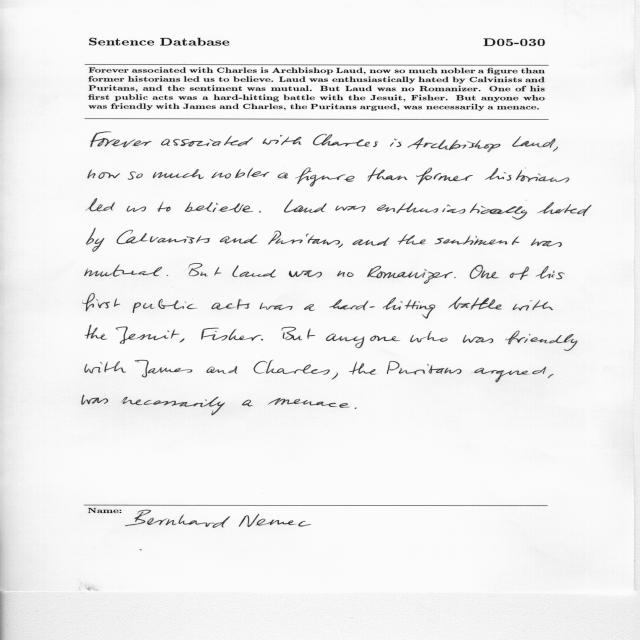word: (377, 203, 527, 220), (329, 297, 435, 319), (122, 397, 225, 415), (367, 266, 453, 284), (506, 330, 578, 351), (408, 138, 501, 153), (117, 230, 210, 244), (485, 168, 569, 182), (254, 360, 330, 375), (296, 168, 355, 187), (326, 334, 400, 349), (116, 327, 180, 344), (475, 367, 547, 382), (161, 136, 253, 147), (268, 231, 340, 245), (85, 264, 162, 277), (135, 360, 193, 377), (387, 361, 462, 374), (416, 168, 473, 185), (91, 132, 152, 147), (133, 299, 198, 313), (435, 235, 520, 245), (313, 134, 378, 147), (268, 398, 350, 408), (201, 328, 262, 341), (537, 202, 592, 216), (448, 297, 502, 310), (185, 202, 253, 212), (83, 294, 120, 312), (211, 168, 269, 179), (284, 199, 327, 213), (232, 265, 276, 278), (512, 136, 556, 148), (368, 168, 408, 181), (153, 169, 204, 179), (85, 362, 126, 374), (282, 327, 316, 340), (513, 300, 553, 311), (87, 228, 105, 252), (189, 264, 222, 277), (212, 299, 250, 310), (410, 332, 448, 343), (470, 265, 499, 279), (263, 135, 302, 145), (86, 199, 115, 212), (536, 266, 565, 279), (349, 362, 376, 375), (220, 235, 257, 244), (85, 325, 107, 340), (88, 169, 120, 179), (398, 234, 426, 245), (353, 238, 390, 246), (510, 266, 529, 280), (82, 395, 108, 405), (531, 239, 562, 247), (463, 335, 493, 343), (207, 366, 237, 374), (289, 271, 322, 278), (260, 303, 293, 310), (336, 205, 366, 212), (128, 171, 143, 180), (158, 202, 171, 212), (127, 206, 146, 212), (337, 271, 354, 277), (390, 139, 401, 147), (304, 304, 315, 311), (242, 400, 253, 407), (277, 173, 288, 179), (332, 373, 338, 380), (553, 147, 558, 152), (338, 243, 343, 248), (548, 374, 554, 378), (180, 339, 185, 343), (261, 339, 263, 341), (355, 407, 357, 409), (259, 211, 261, 212), (167, 275, 169, 276), (454, 277, 456, 278)
